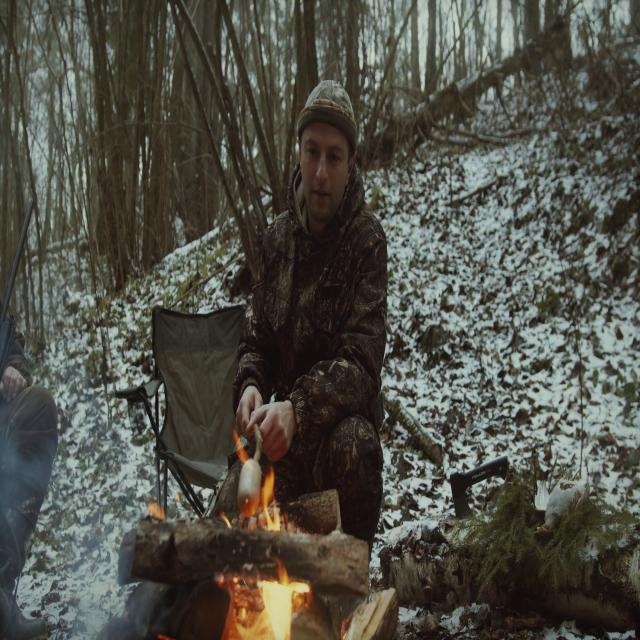Fire: (222, 462, 300, 640)
